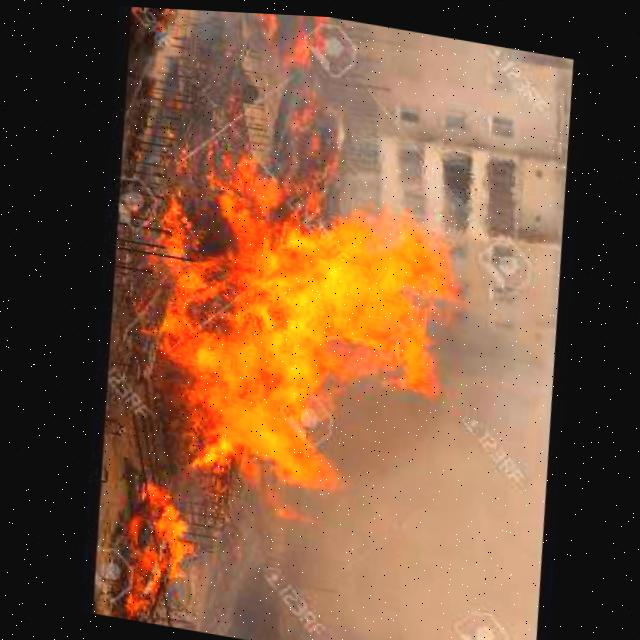Fire: (118, 150, 492, 513), (88, 470, 200, 629), (132, 5, 192, 20)
